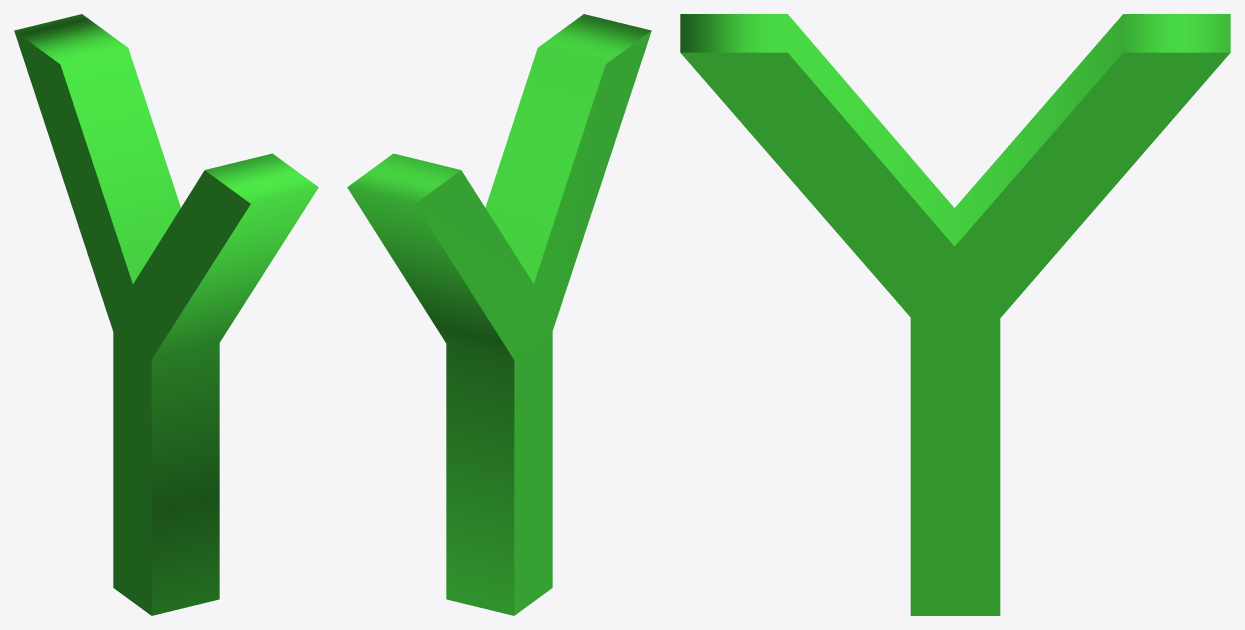
The model's file is letterY.glb.
The picture shows the model from 3 angles, left to right: view 1: azimuth 30°, elevation 25°; view 2: azimuth 150°, elevation 25°; view 3: azimuth 270°, elevation 25°; orthographic projection. The views are drawn at different scales.
Parts seen in each view (by area): view 1: Text.002; view 2: Text.002; view 3: Text.002.
Part boxes in pixels (x1=…): Text.002: x1=14, y1=14, x2=318, y2=615; Text.002: x1=347, y1=14, x2=651, y2=615; Text.002: x1=680, y1=14, x2=1230, y2=615.
Bounding box in the file's own units: 0.1 × 0.682 × 0.604.
